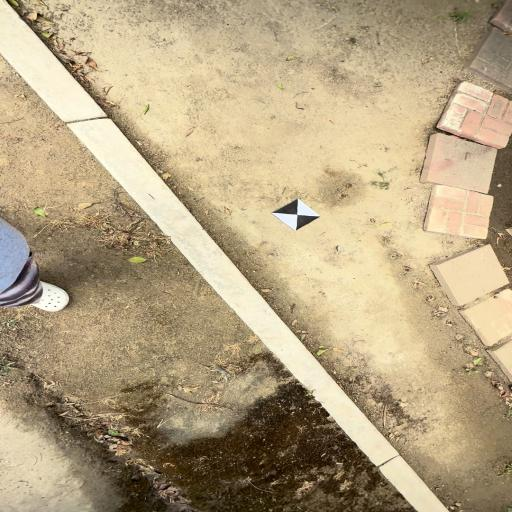target: (271, 199, 321, 231)
